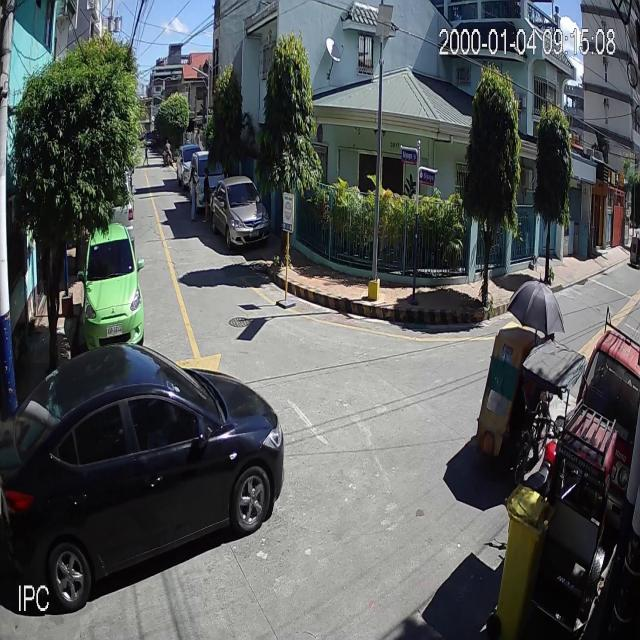standing: (189, 166, 200, 221), (201, 166, 211, 223)
